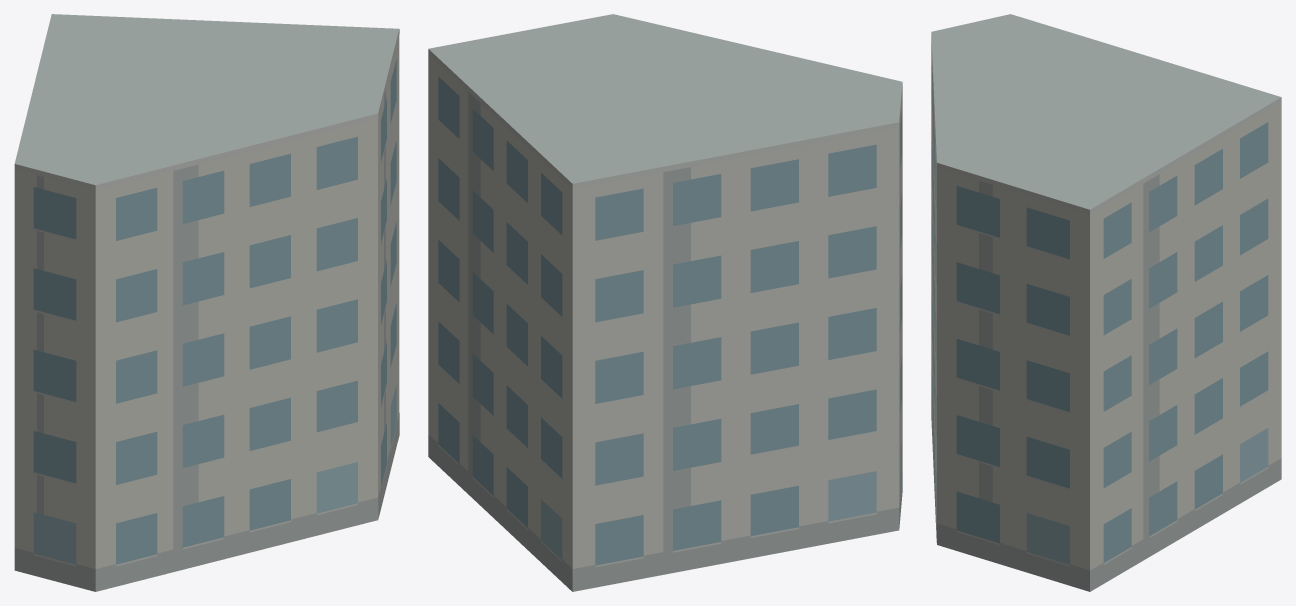
File: survey-upis-32839995.glb
3 views of the same model, side by side, from view 1: azimuth 30°, elevation 25°; view 2: azimuth 150°, elevation 25°; view 3: azimuth 270°, elevation 25° (orthographic). The views are drawn at different scales.
Parts seen in each view (by area): view 1: survey-upis-32839995.tmp; view 2: survey-upis-32839995.tmp; view 3: survey-upis-32839995.tmp.
Part boxes in pixels (box(x1,y1,x2,y2)): survey-upis-32839995.tmp: box(14, 14, 399, 591); survey-upis-32839995.tmp: box(428, 14, 902, 591); survey-upis-32839995.tmp: box(931, 14, 1281, 591).
Bounding box in the file's own units: 19.79 × 18 × 14.97.
